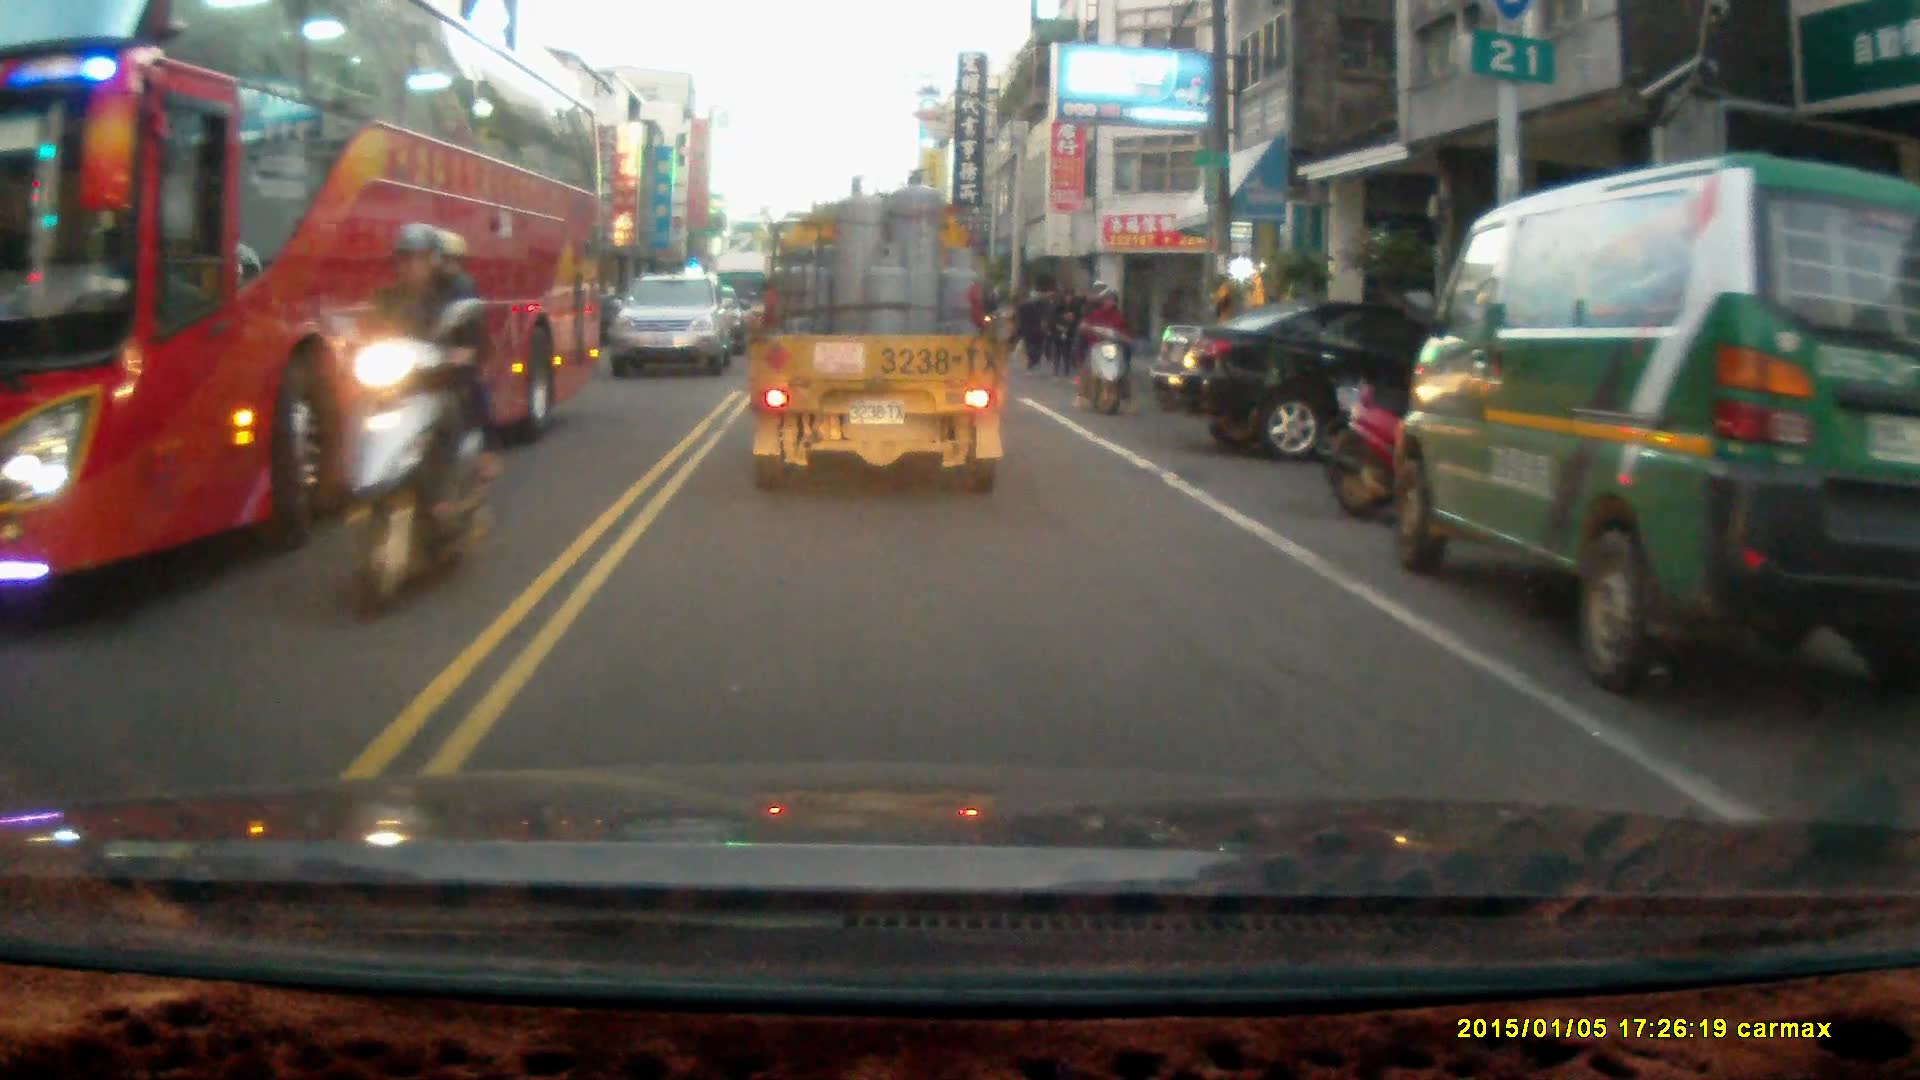pedestrian: (1050, 287, 1080, 382), (1018, 287, 1051, 369)
rider: (318, 220, 507, 619), (1079, 278, 1140, 419)
vehicle: (1, 7, 615, 590), (1399, 151, 1920, 697), (745, 168, 1010, 494), (1165, 297, 1460, 467), (609, 274, 736, 381)
